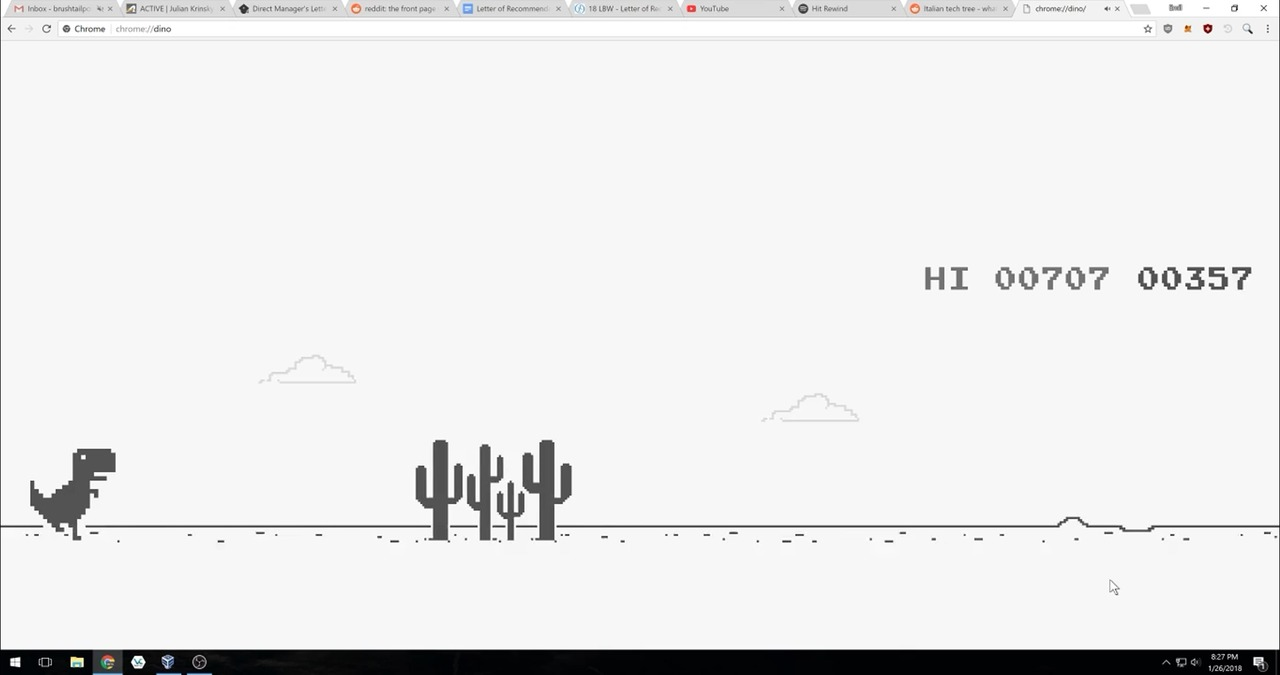cactus: (413, 436, 574, 543)
dinosaur: (26, 444, 119, 543)
